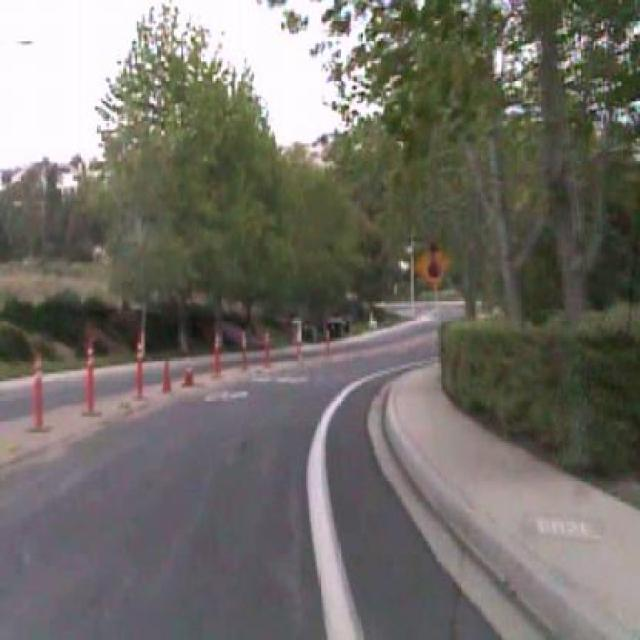stopAhead: (412, 232, 451, 288)
